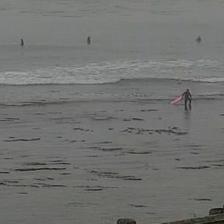surfer: (196, 36, 202, 42), (20, 38, 24, 46), (87, 36, 91, 44)
